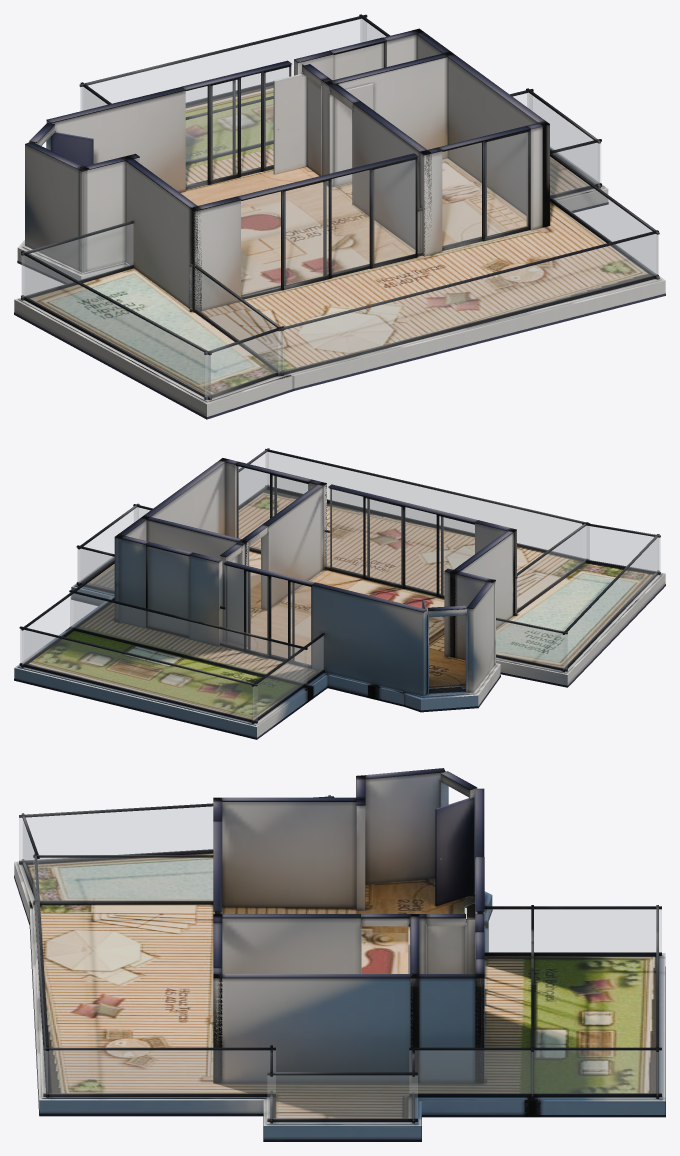
3 views of the same model, one above another, from view 1: azimuth 30°, elevation 25°; view 2: azimuth 150°, elevation 25°; view 3: azimuth 270°, elevation 25° (orthographic). The views are drawn at different scales.
Parts seen in each view (by area): view 1: plan, railg19_m, glass0_m, glass1_m, railg18_m, railg0_m, glass2_m, railg16_m, railg12_m, railg15_m, railg17_m, railg1_m (+2 smaller); view 2: plan, glass0_m, railg19_m, railg0_m, railg1_m, glass2_m, railg18_m, railg11_m, glass1_m, railg17_m, glass3_m, railg16_m (+5 smaller); view 3: plan, railg11_m, railg12_m, railg18_m, railg15_m, railg14_m, railg10_m.
Boxes of the visible parts, x1=… form: plan: x1=14, y1=14, x2=665, y2=419; railg19_m: x1=278, y1=234, x2=657, y2=372; glass0_m: x1=241, y1=160, x2=415, y2=296; glass1_m: x1=442, y1=132, x2=527, y2=247; railg18_m: x1=22, y1=255, x2=210, y2=396; railg0_m: x1=80, y1=19, x2=366, y2=110; glass2_m: x1=186, y1=67, x2=288, y2=186; railg16_m: x1=21, y1=224, x2=133, y2=296; railg12_m: x1=550, y1=157, x2=658, y2=276; railg15_m: x1=196, y1=269, x2=282, y2=372; railg17_m: x1=205, y1=331, x2=283, y2=396; railg1_m: x1=186, y1=99, x2=272, y2=161; plan: x1=14, y1=448, x2=665, y2=739; glass0_m: x1=330, y1=489, x2=474, y2=595; railg19_m: x1=266, y1=452, x2=589, y2=559; railg0_m: x1=20, y1=629, x2=257, y2=720; railg1_m: x1=70, y1=593, x2=306, y2=684; glass2_m: x1=225, y1=565, x2=310, y2=664; railg18_m: x1=563, y1=538, x2=658, y2=669; railg11_m: x1=22, y1=564, x2=114, y2=664; glass1_m: x1=237, y1=466, x2=307, y2=550; railg17_m: x1=583, y1=526, x2=660, y2=571; glass3_m: x1=148, y1=547, x2=188, y2=617; railg16_m: x1=496, y1=620, x2=567, y2=668; plan: x1=14, y1=768, x2=665, y2=1141; railg11_m: x1=409, y1=1050, x2=661, y2=1093; railg12_m: x1=43, y1=1050, x2=275, y2=1093; railg18_m: x1=19, y1=806, x2=212, y2=860; railg15_m: x1=33, y1=858, x2=212, y2=900; railg14_m: x1=484, y1=909, x2=661, y2=952; railg10_m: x1=267, y1=1075, x2=417, y2=1118.
Bounding box in the file's own units: 13.01 × 2.62 × 12.66.
2 materials, 1 textured.
